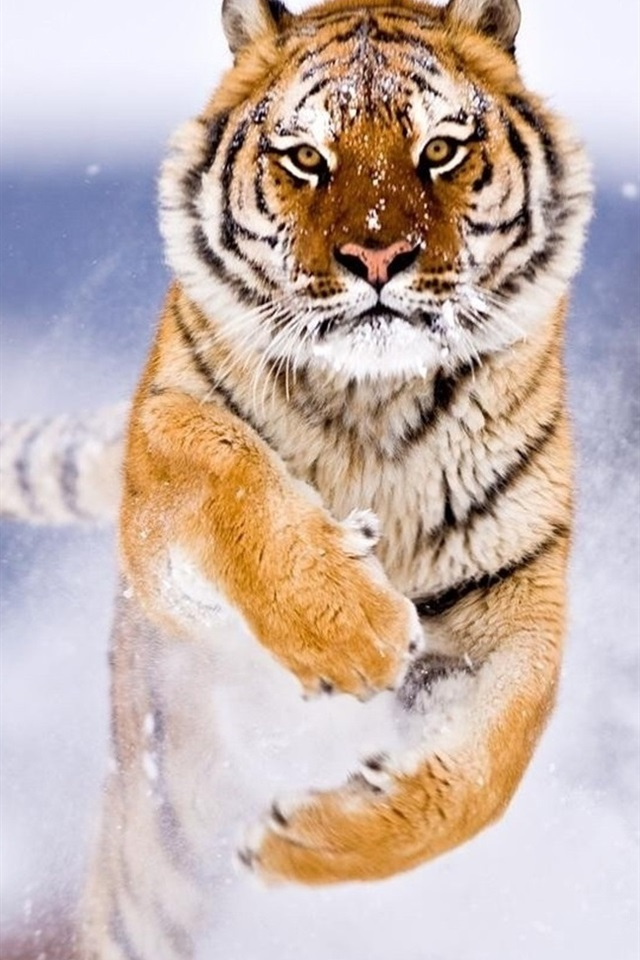Tigrew: (132, 21, 584, 928)
